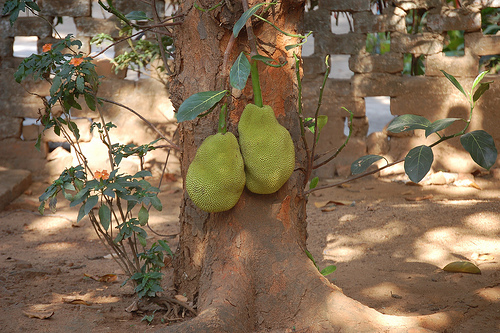jackfruit: (237, 102, 297, 197), (185, 129, 246, 211)
